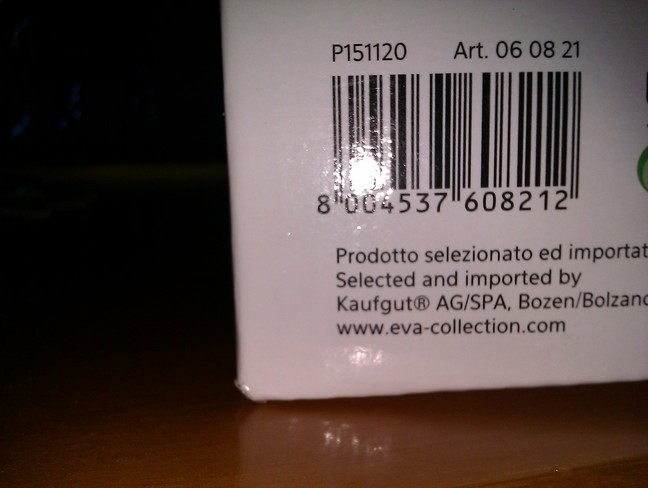barcode: (297, 67, 600, 219)
